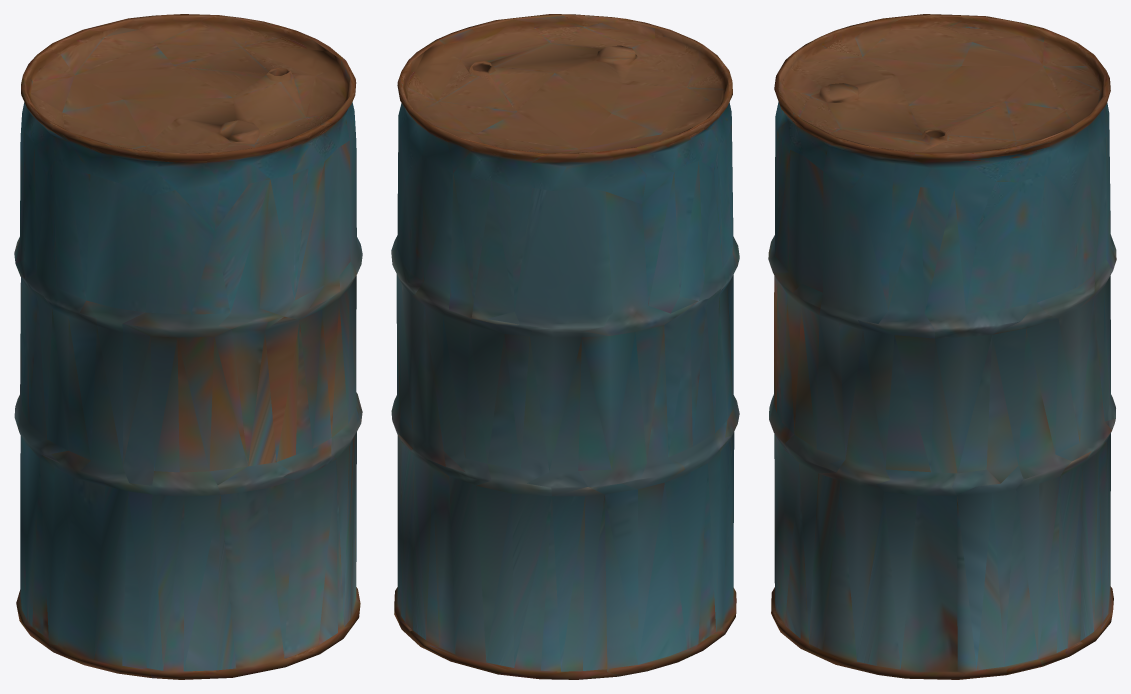
The model's file is fv_barrel.glb.
3 views of the same model, side by side, from view 1: azimuth 30°, elevation 25°; view 2: azimuth 150°, elevation 25°; view 3: azimuth 270°, elevation 25° (orthographic).
Parts seen in each view (by area): view 1: fv_barrel; view 2: fv_barrel; view 3: fv_barrel.
Boxes of the visible parts, box(x1,y1,x2,y2) form: fv_barrel: box(14, 14, 362, 679); fv_barrel: box(391, 14, 739, 679); fv_barrel: box(768, 14, 1116, 679).
Size of the model in its own units: 0.5418 by 0.8998 by 0.5419.
Materials: 1 (1 with a texture image).
